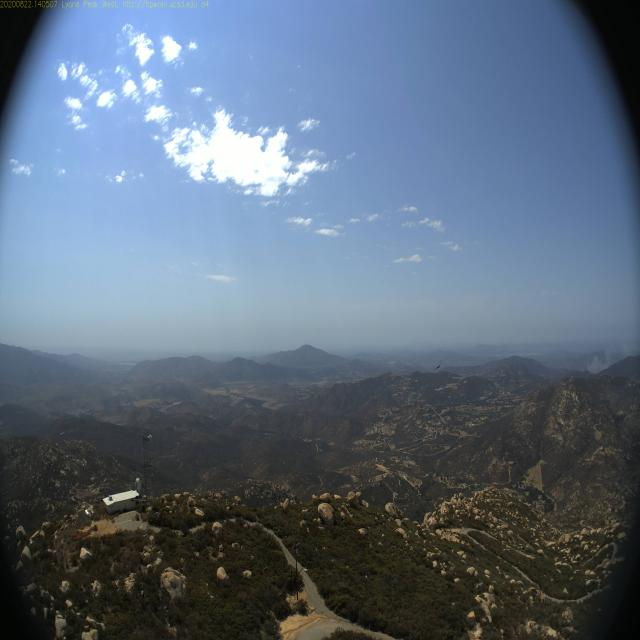smoke: (588, 332, 634, 380)
